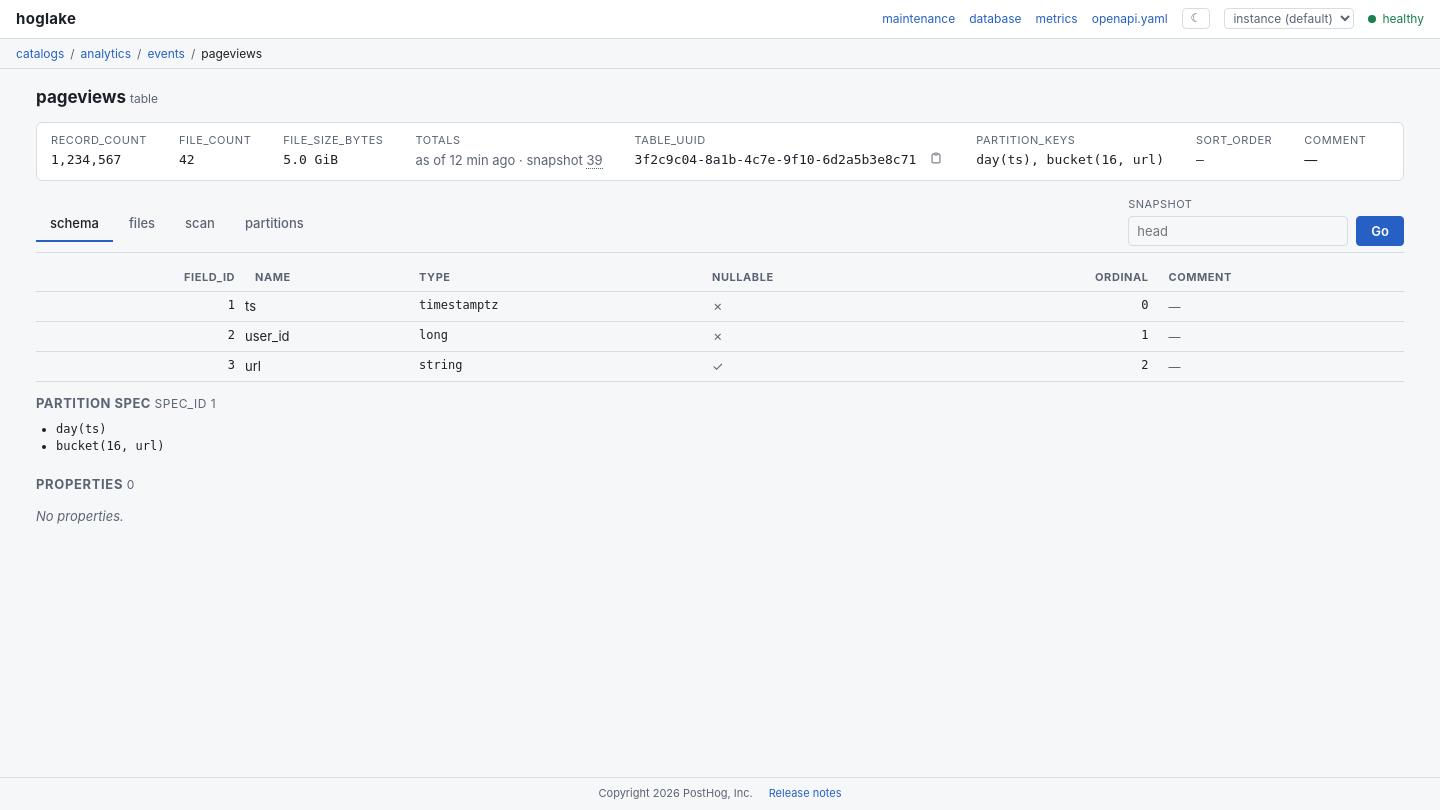
time-travel snapshot selector › requests exactly the snapshot id the operator typed
The width and height of the screenshot is (1440, 810).
Check: the text "1,234,567" is shown, box [51,152,122,167]
Type "9007199254740993" into the field named "snapshot id" at (1238, 231), box [1128,216,1348,246]
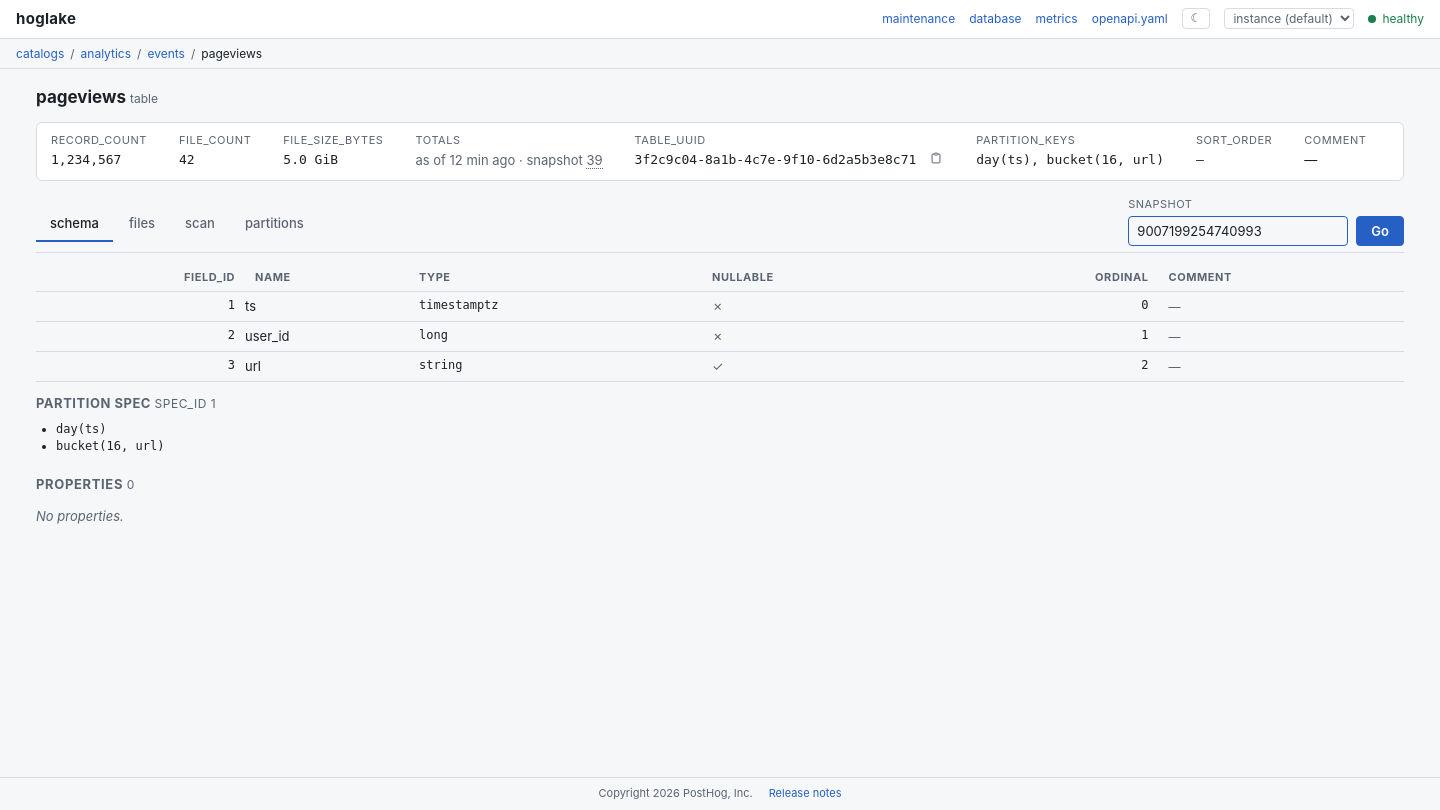
Click the button "Go" at (1380, 231), box [1356,216,1404,246]
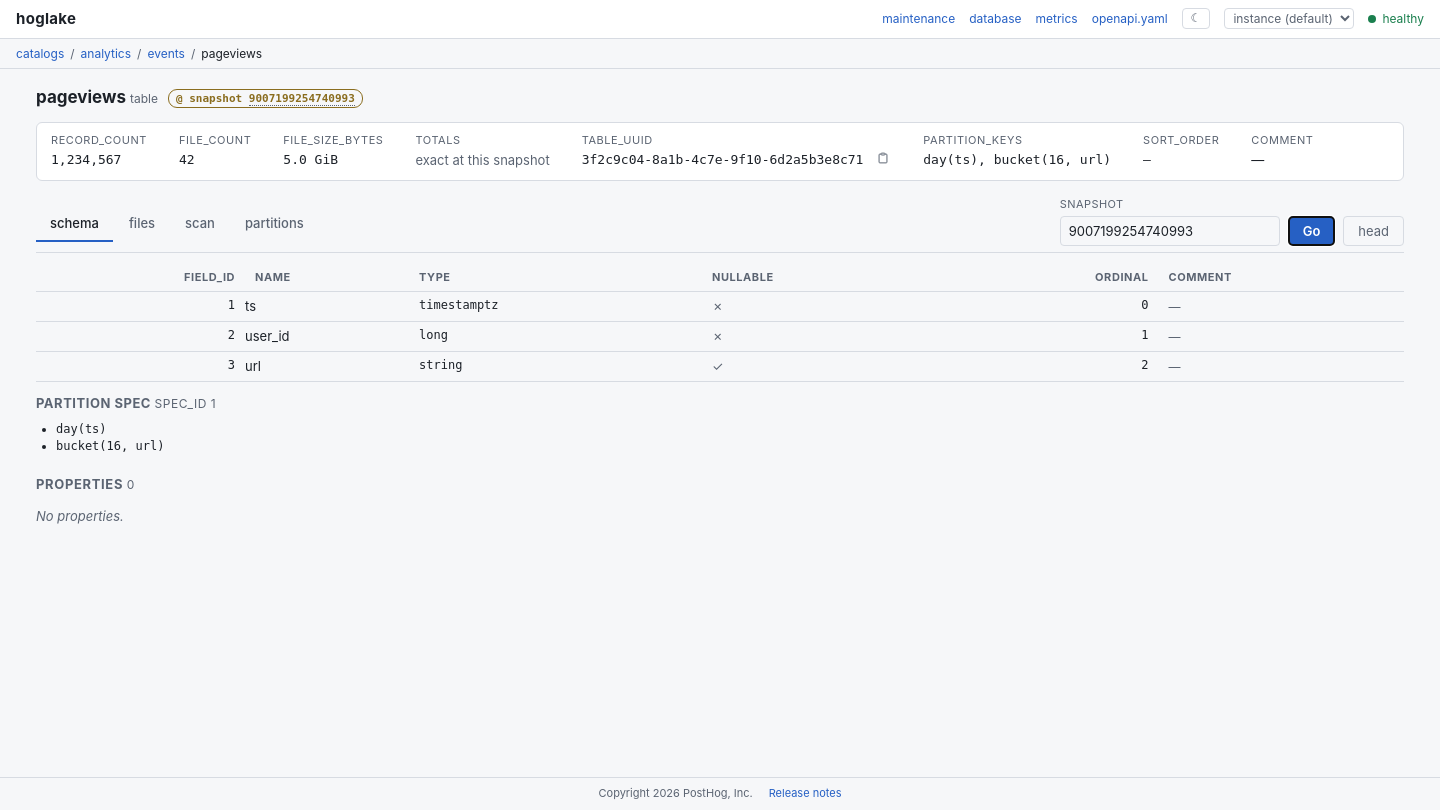
Check: the text "@ snapshot 9007199254740993" is shown, box [168,88,363,108]
